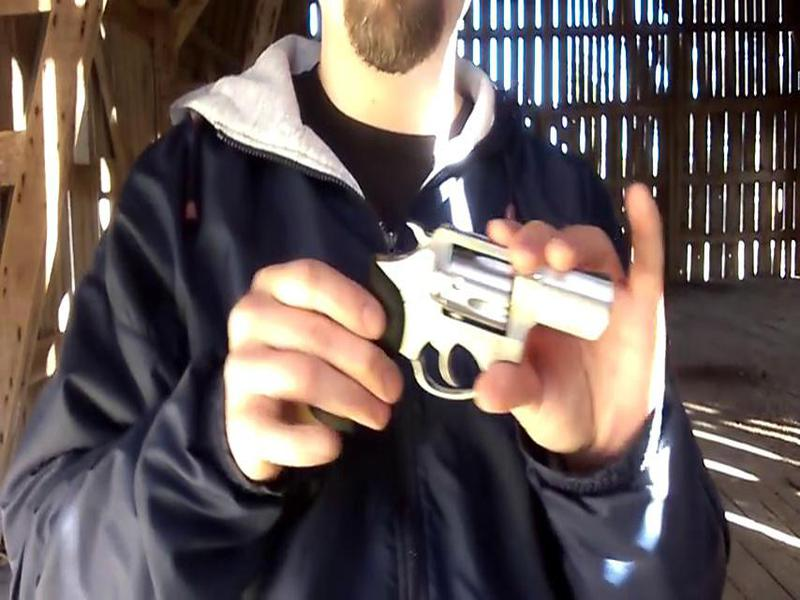Revolver: (345, 198, 628, 412)
